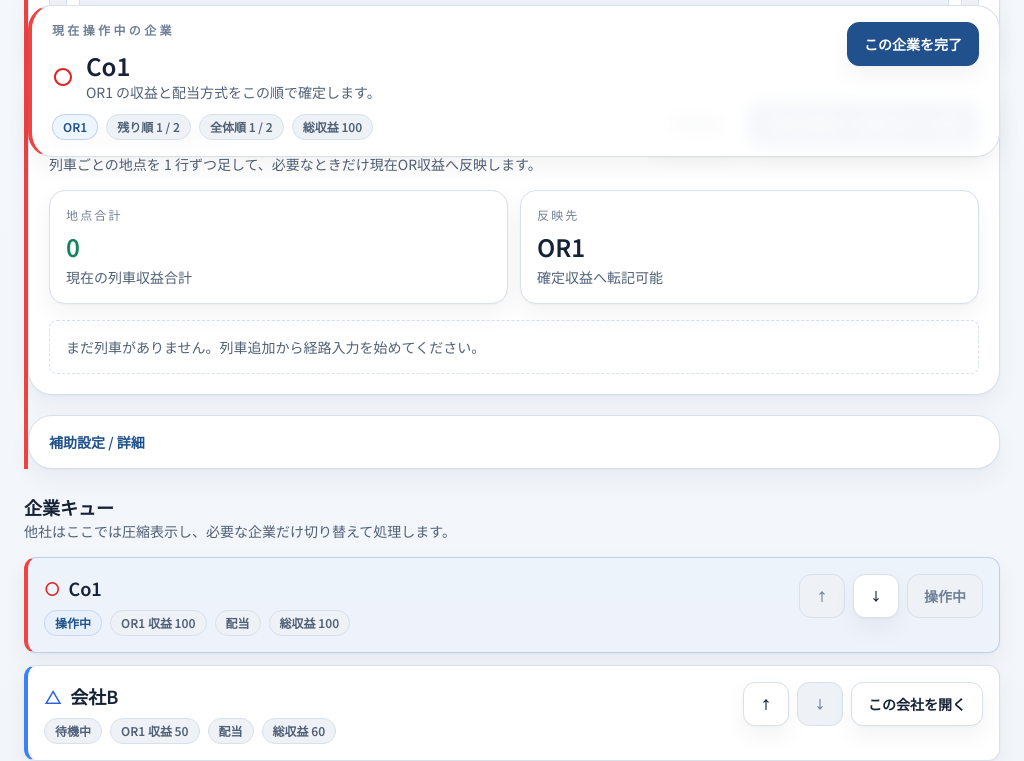
Test case: OrRoundView focused OR flow › 企業キューから別企業へ切り替える
(page scrolled)
Step 1. Click the button "この会社を開く" → (917, 704), box [851, 682, 983, 726]
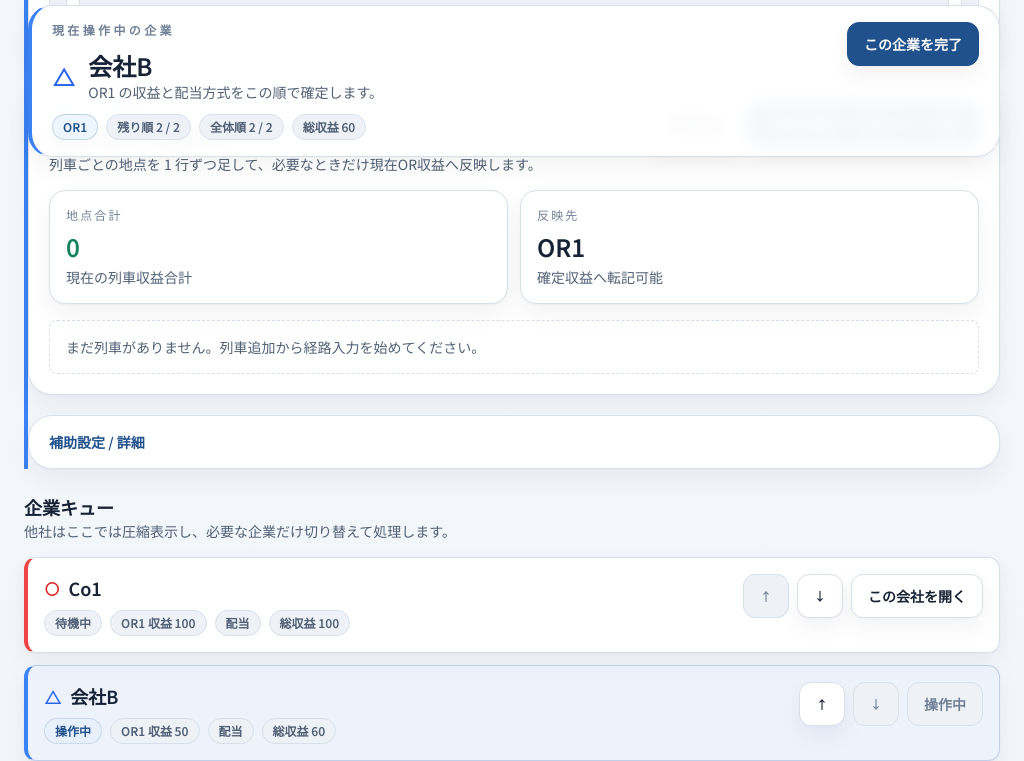
Result: the heading "会社B" below "現在操作中の企業" is shown at [88, 48, 152, 83]
